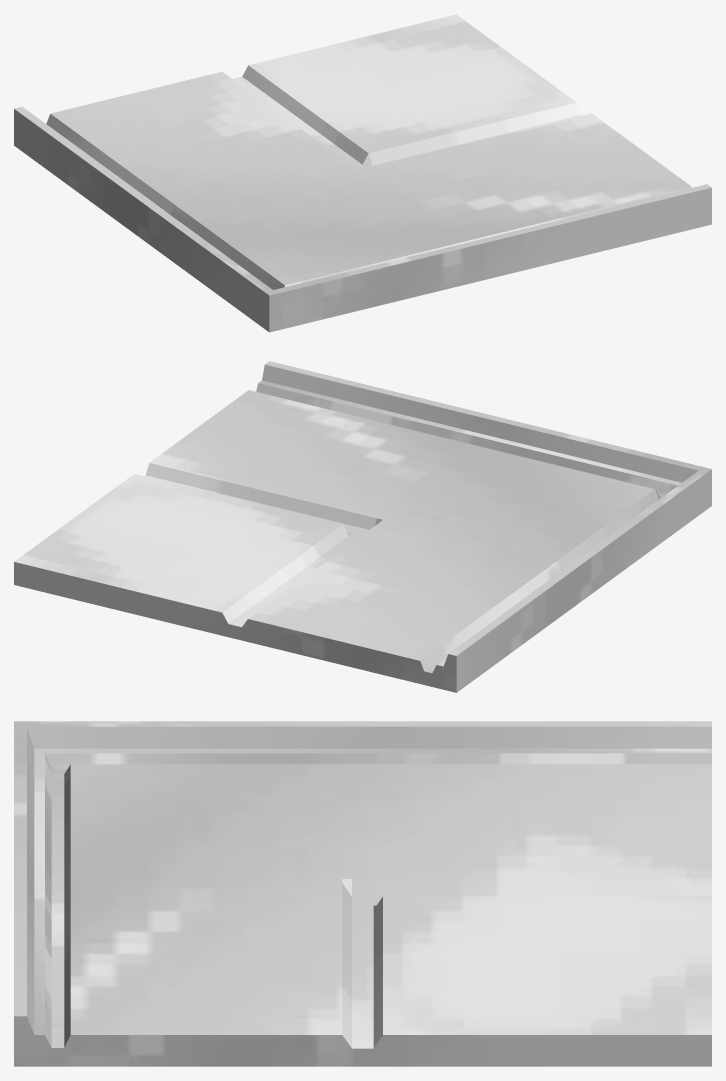
The model's file is CornerFloor 1.fbx.
3 views of the same model, one above another, from view 1: azimuth 30°, elevation 25°; view 2: azimuth 150°, elevation 25°; view 3: azimuth 270°, elevation 25° (orthographic). The views are drawn at different scales.
Parts seen in each view (by area): view 1: pCube189; view 2: pCube189; view 3: pCube189.
Part boxes in pixels (<box>): pCube189: <box>14,14,711,332</box>; pCube189: <box>14,361,711,692</box>; pCube189: <box>14,721,711,1066</box>.
Size of the model in its own units: 500 by 39.94 by 500.
1 material, 1 textured.
